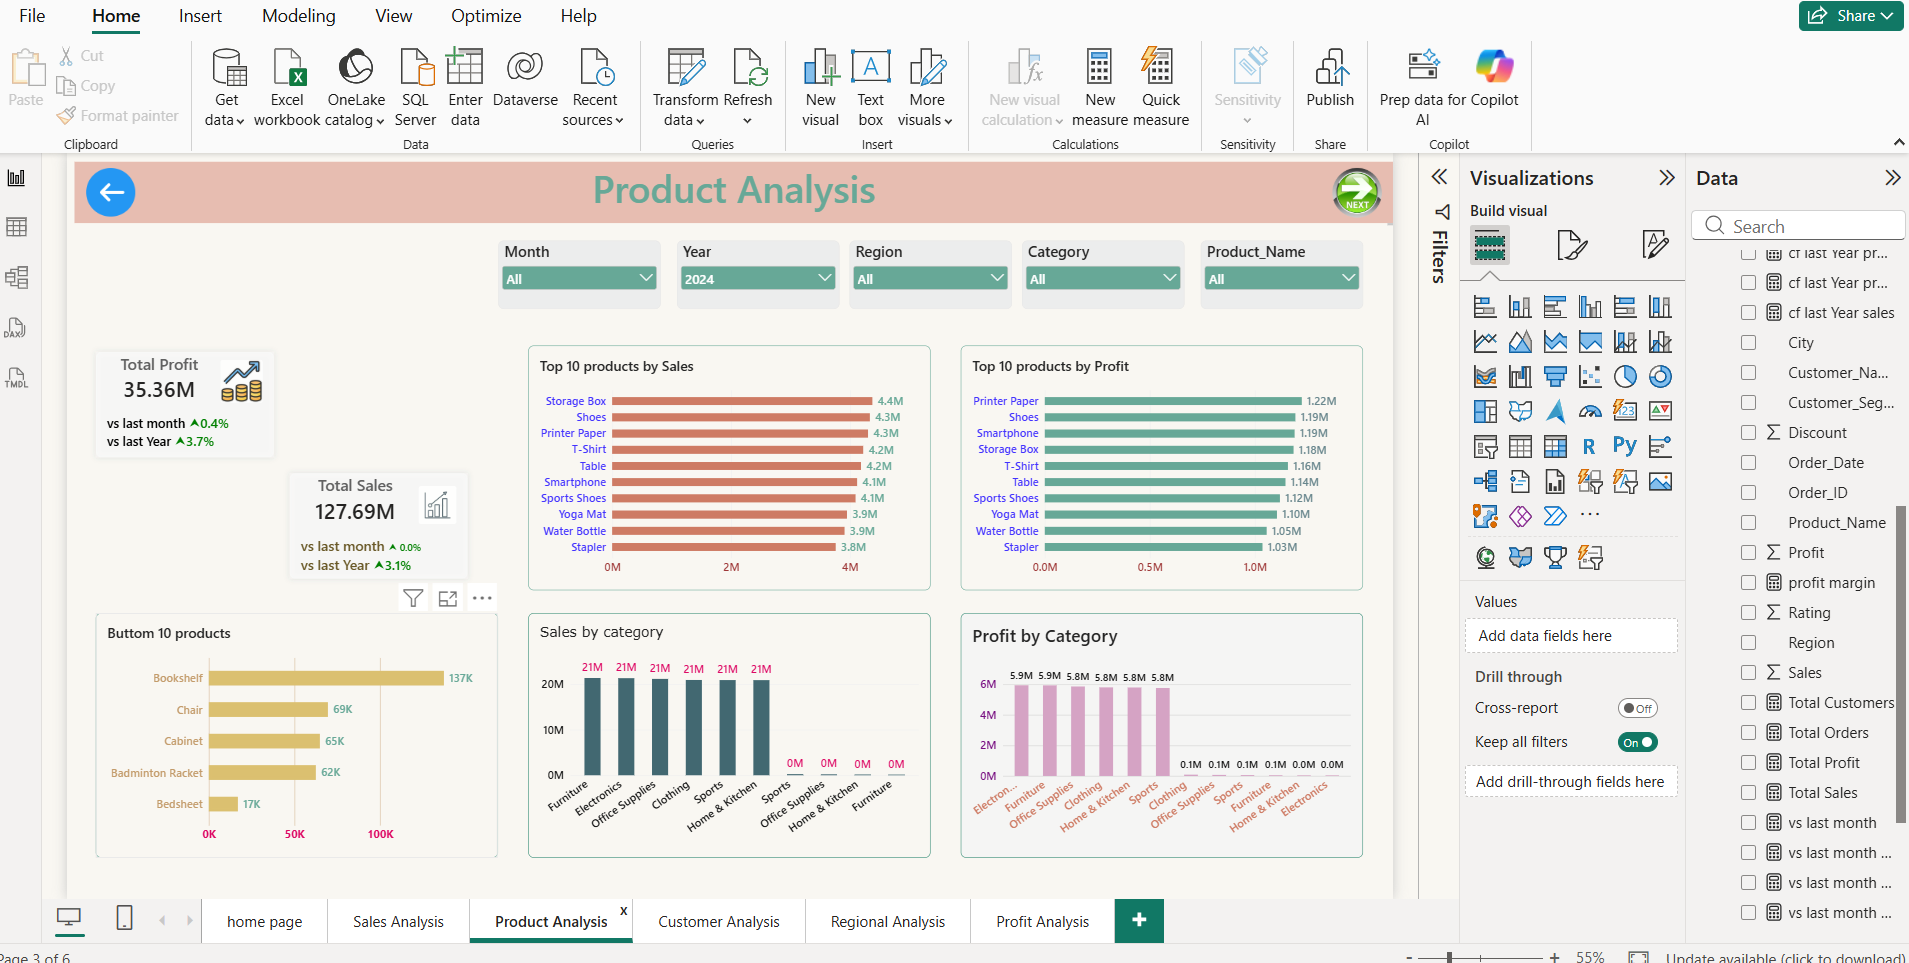

What the dashboard file says about the page in this screenshot:
{"tool":"powerbi","page":{"name":"Product Analysis","canvas":[1920,1080],"ordinal":2},"visuals":[{"type":"textbox","title":"Product Analysis","box":[10.9,12.7,1909.2,92.3],"z":0},{"type":"clusteredBarChart","title":"Top 10 products by Sales","fields":{"Category":["Table1.Product_Name"],"Y":["Table1.Total Sales"]},"box":[667.8,278.7,582,354],"z":1000},{"type":"clusteredBarChart","title":"Top 10 products by Profit","fields":{"Category":["Table1.Product_Name"],"Y":["Table1.Total Profit"]},"box":[1293.9,278.7,582,354],"z":2000},{"type":"slicer","fields":{"Values":["date table.Month"]},"box":[624.3,126.7,235.3,99.5],"z":3000},{"type":"slicer","fields":{"Values":["date table.Year"]},"box":[883.1,126.7,235.3,99.5],"z":4000},{"type":"slicer","fields":{"Values":["Table1.Region"]},"box":[1132.8,126.7,235.3,99.5],"z":5000},{"type":"slicer","fields":{"Values":["Table1.Category"]},"box":[1382.6,126.7,235.3,99.5],"z":6000},{"type":"slicer","fields":{"Values":["Table1.Product_Name"]},"box":[1641.4,126.7,235.3,99.5],"z":7000},{"type":"clusteredBarChart","title":"Buttom 10 products ","fields":{"Category":["Table1.Product_Name"],"Y":["Table1.Total Sales"]},"box":[41.6,666,582,354],"z":8000},{"type":"clusteredColumnChart","title":"Sales by category","fields":{"Category":["Table1.Category"],"Y":["Table1.Total Sales"]},"box":[667.8,666,582.7,354.7],"z":9000},{"type":"clusteredColumnChart","title":"Profit by Category","fields":{"Category":["Table1.Category"],"Y":["Table1.Total Profit"]},"box":[1293.9,666,582,354.7],"z":10000},{"type":"image","box":[10.9,21.7,105,70.6],"z":11000},{"type":"cardVisual","fields":{"Data":["Table1.Total Sales"]},"box":[311.3,452.4,280.5,175],"z":12000},{"type":"cardVisual","fields":{"Data":["Table1.Total Profit"]},"box":[30.8,276.9,280.5,175],"z":13000},{"type":"image","box":[1815.1,12.7,105,99.5],"z":14000}]}

Visuals, with their boxes on the page's 1920x1080 design canvas (x1, y1, x2, y2). These are canvas units, not pixel positions in the 1909x963 screenshot, which may show the page scaled, cropped or inside an application window:
"Product Analysis" textbox: [11, 13, 1920, 105]
"Top 10 products by Sales" clusteredBarChart: [668, 279, 1250, 633]
"Top 10 products by Profit" clusteredBarChart: [1294, 279, 1876, 633]
slicer - date table.Month: [624, 127, 860, 226]
slicer - date table.Year: [883, 127, 1118, 226]
slicer - Table1.Region: [1133, 127, 1368, 226]
slicer - Table1.Category: [1383, 127, 1618, 226]
slicer - Table1.Product_Name: [1641, 127, 1877, 226]
"Buttom 10 products " clusteredBarChart: [42, 666, 624, 1020]
"Sales by category" clusteredColumnChart: [668, 666, 1250, 1021]
"Profit by Category" clusteredColumnChart: [1294, 666, 1876, 1021]
image: [11, 22, 116, 92]
cardVisual - Table1.Total Sales: [311, 452, 592, 627]
cardVisual - Table1.Total Profit: [31, 277, 311, 452]
image: [1815, 13, 1920, 112]
